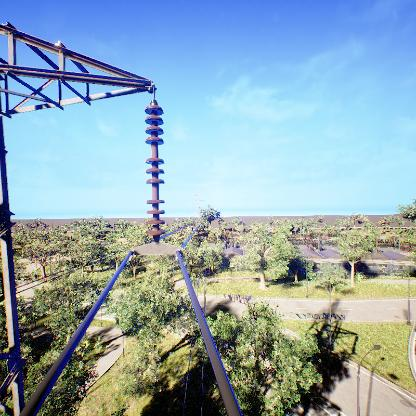insulator: (142, 104, 167, 240)
